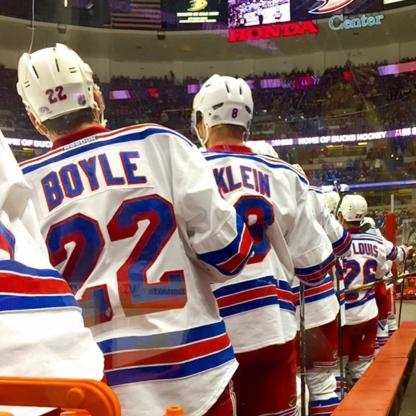Helmet: (13, 43, 106, 134), (192, 74, 253, 149), (335, 194, 370, 224), (250, 140, 278, 158), (324, 189, 342, 215), (290, 161, 306, 172)
